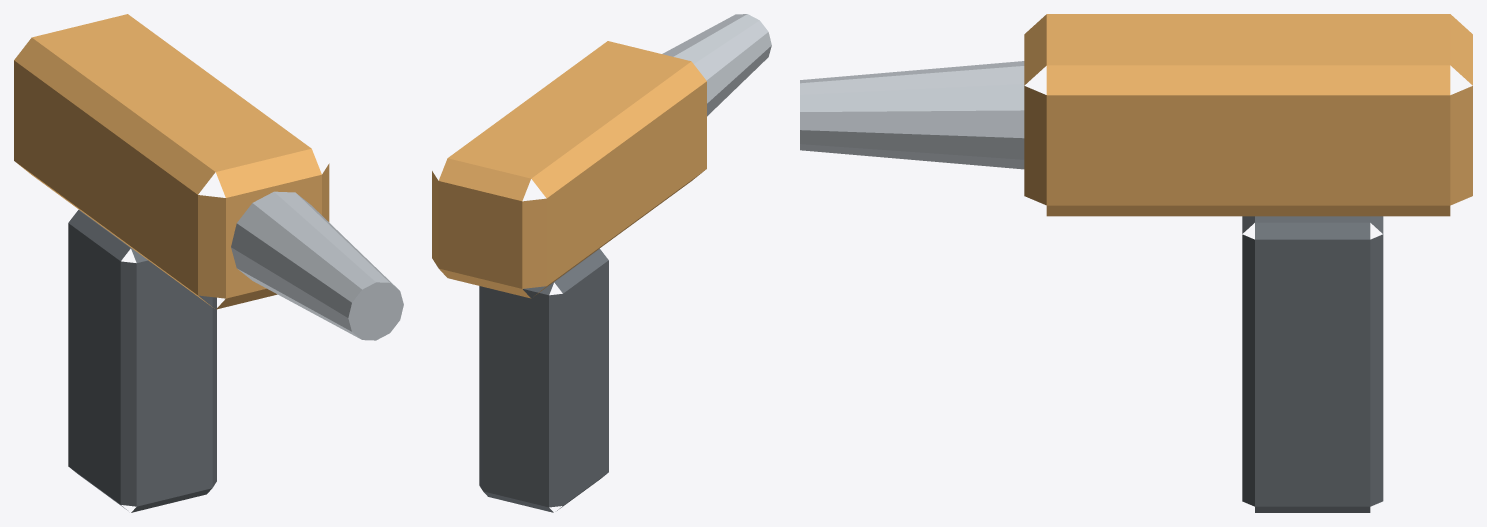
File: heat_gun_nozzle.glb
3 views of the same model, side by side, from view 1: azimuth 30°, elevation 25°; view 2: azimuth 150°, elevation 25°; view 3: azimuth 270°, elevation 25° (orthographic). The views are drawn at different scales.
Visible parts, largest first — view 1: HousingAccent, ErgonomicGrip, MetalBody; view 2: HousingAccent, ErgonomicGrip, MetalBody; view 3: HousingAccent, ErgonomicGrip, MetalBody.
Boxes of the visible parts, left/top/right/bottom form: HousingAccent: left=14, top=14, right=329, bottom=309; ErgonomicGrip: left=68, top=210, right=216, bottom=512; MetalBody: left=231, top=191, right=403, bottom=340; HousingAccent: left=432, top=41, right=706, bottom=298; ErgonomicGrip: left=479, top=248, right=608, bottom=512; MetalBody: left=662, top=14, right=771, bottom=116; HousingAccent: left=1024, top=14, right=1472, bottom=216; ErgonomicGrip: left=1242, top=216, right=1383, bottom=512; MetalBody: left=800, top=61, right=1024, bottom=169.
Bounding box in the file's own units: 0.104 × 0.312 × 0.42.
